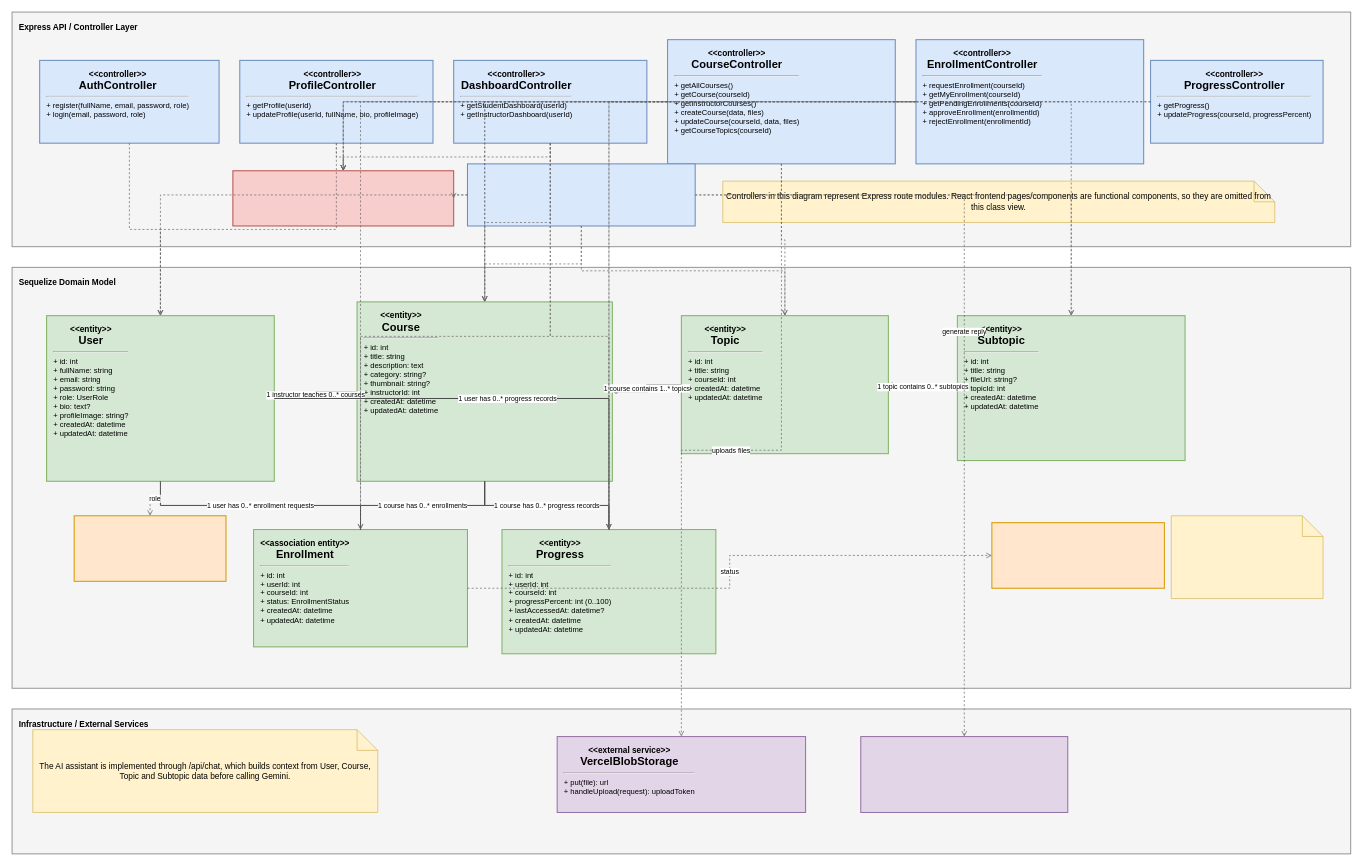
This 1363x867 diagram has some shape labels left out. Here are the shapes that lost their labels. From the top down, the centre of each, then its label:
At point (343, 198): "<<middleware>> TokenMiddleware + validateToken(req, res, next)".
At point (581, 194): "<<controller>> ChatController + chat(message, history, page, courseId)".
At point (149, 548): "<<enumeration>> UserRole + student + instructor".
At point (1078, 555): "<<enumeration>> EnrollmentStatus + pending + approved + rejected".
At point (1247, 557): "Student and Instructor are stored in User.role, not as separate subclasses.".
At point (964, 774): "<<external service>> GeminiAPI + generateContent(contents): reply".
